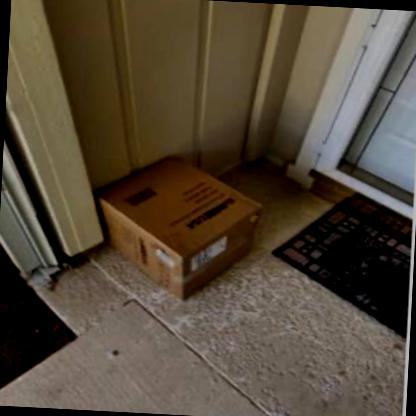box: (97, 152, 265, 302)
